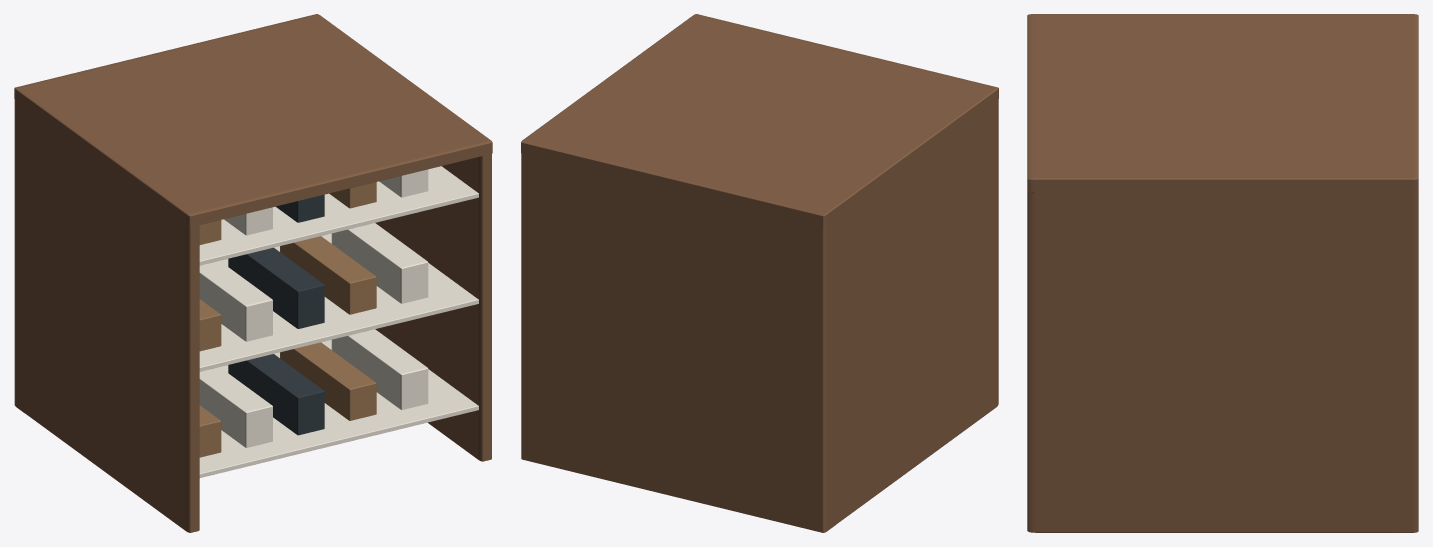
File: shelf-17-0.glb
3 renders of one model, left to right at view 1: azimuth 30°, elevation 25°; view 2: azimuth 150°, elevation 25°; view 3: azimuth 270°, elevation 25°, orthographic. The views are drawn at different scales.
Visible parts, largest first — view 1: upholstery (×2), book (×2); view 2: upholstery; view 3: upholstery.
Part boxes in pixels (x1=…): upholstery (×2): x1=14, y1=14, x2=492, y2=532; book (×2): x1=199, y1=182, x2=376, y2=457; upholstery: x1=521, y1=14, x2=998, y2=532; upholstery: x1=1027, y1=14, x2=1418, y2=532.
Bounding box in the file's own units: 1 × 1 × 1.
